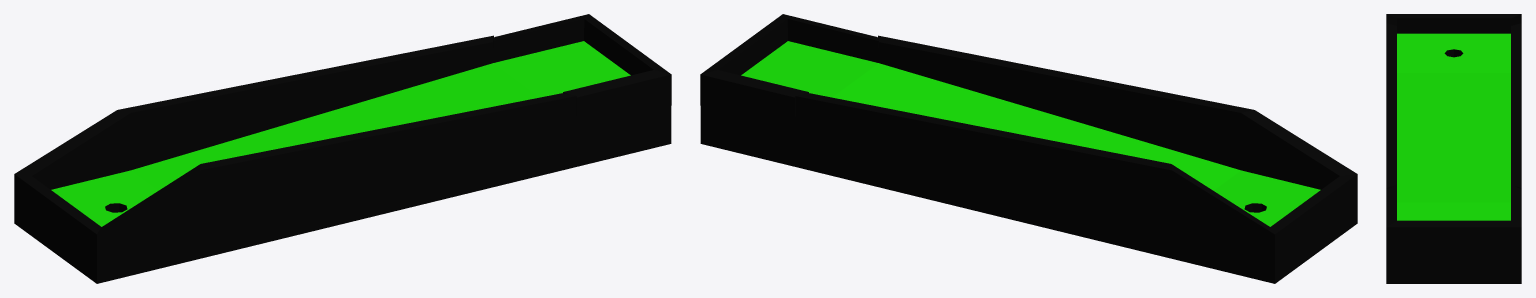
Rendered from GolfBoardV8.fbx.
The picture shows the model from 3 angles, left to right: view 1: azimuth 30°, elevation 25°; view 2: azimuth 150°, elevation 25°; view 3: azimuth 270°, elevation 25°; orthographic projection. The views are drawn at different scales.
Parts seen in each view (by area): view 1: golf_Board; view 2: golf_Board; view 3: golf_Board.
Part boxes in pixels (x1,y1,x2,y2): golf_Board: [14, 14, 671, 283]; golf_Board: [700, 14, 1357, 283]; golf_Board: [1386, 14, 1521, 283].
Bounding box in the file's own units: 1115 × 164 × 278.
